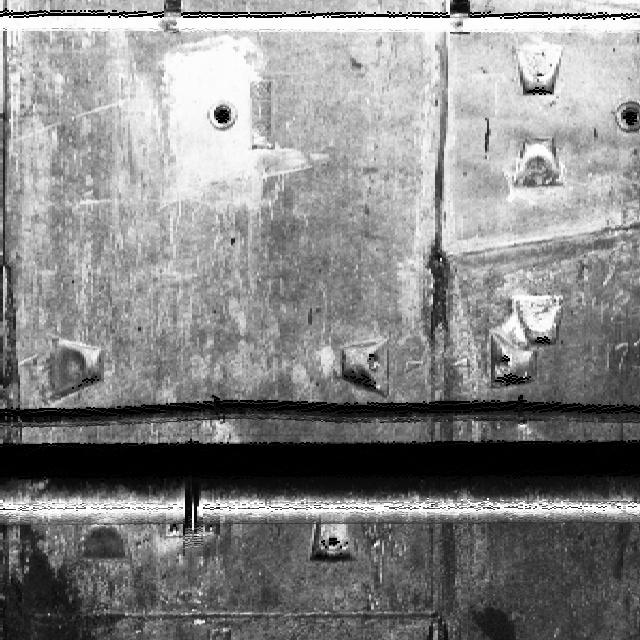leakage: (0, 517, 134, 636), (419, 213, 462, 442), (427, 516, 458, 639), (463, 598, 521, 639)
